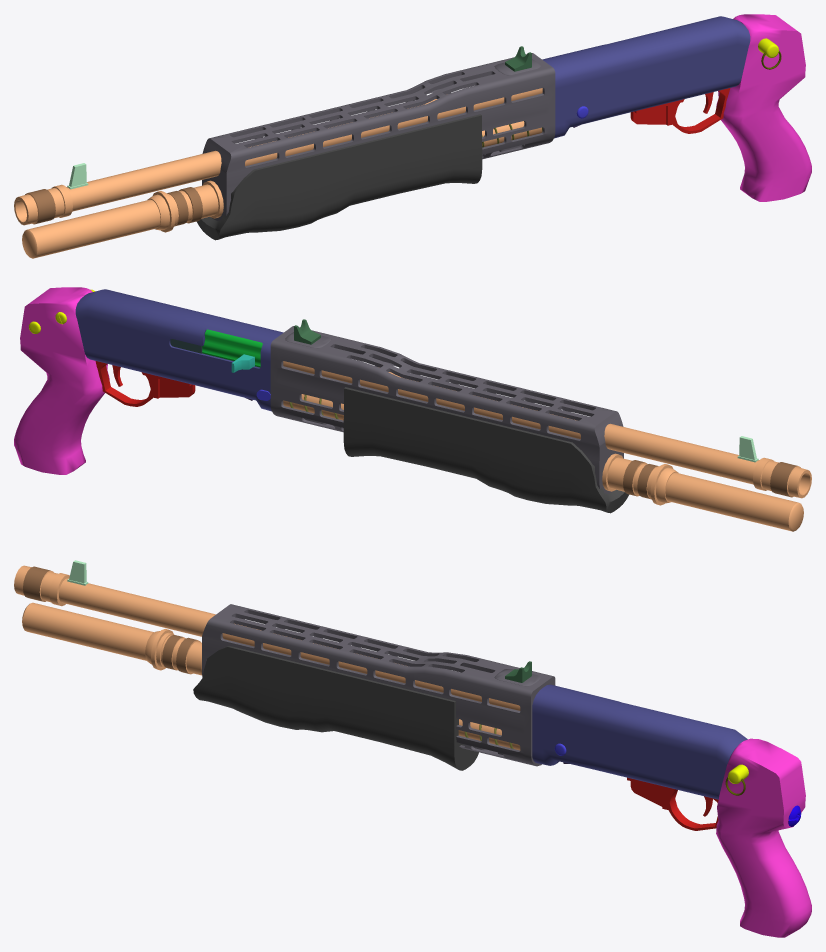
3 views of the same model, one above another, from view 1: azimuth 30°, elevation 25°; view 2: azimuth 150°, elevation 25°; view 3: azimuth 330°, elevation 25° (orthographic).
Visible parts, largest first — view 1: Plane (×2); view 2: Plane (×2); view 3: Plane (×2).
Boxes of the visible parts, bbox=[...] form: Plane (×2): bbox=[14, 14, 811, 258]; Plane (×2): bbox=[14, 287, 811, 531]; Plane (×2): bbox=[14, 560, 811, 937].
Bounding box in the file's own units: 476 × 117 × 43.95.
